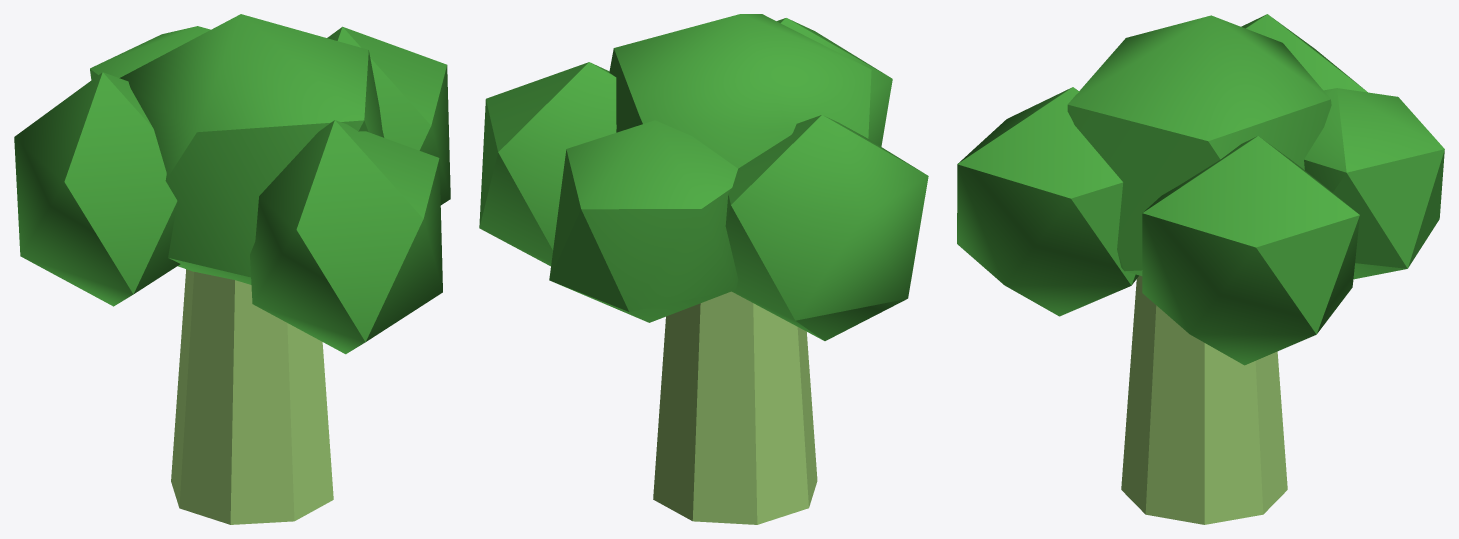
The model's file is Broccoli.fbx.
The picture shows the model from 3 angles, left to right: view 1: azimuth 30°, elevation 25°; view 2: azimuth 150°, elevation 25°; view 3: azimuth 270°, elevation 25°; orthographic projection. The views are drawn at different scales.
Parts seen in each view (by area): view 1: Broccoli; view 2: Broccoli; view 3: Broccoli.
Boxes of the visible parts, box(x1,y1,x2,y2) form: Broccoli: box(14, 14, 450, 524); Broccoli: box(479, 14, 928, 524); Broccoli: box(957, 14, 1444, 524).
Bounding box in the file's own units: 1.04 × 1.12 × 1.05.
Materials: 1 (1 with a texture image).
